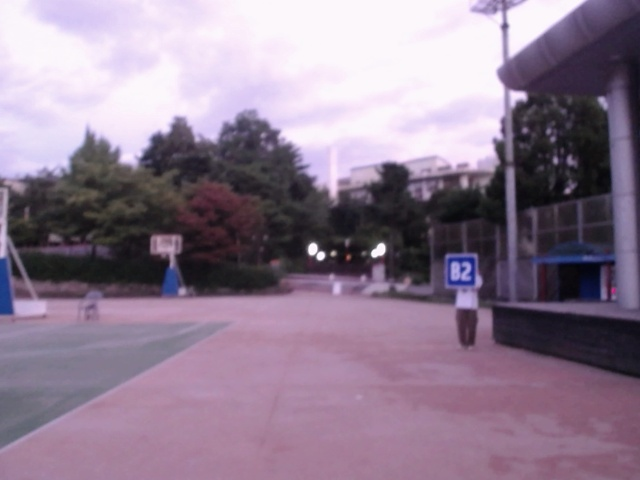delivery_b2: (446, 253, 479, 288)
